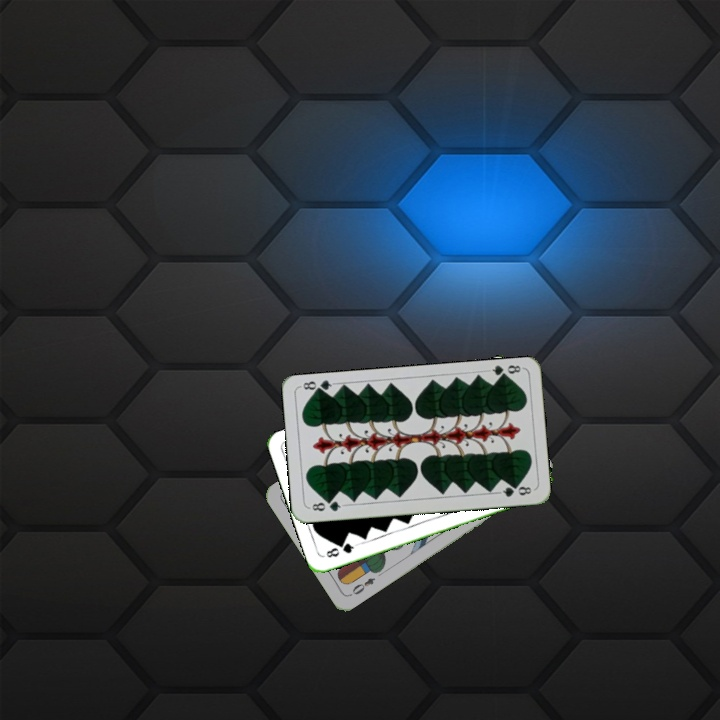EO: (346, 573, 378, 599)
G8: (484, 361, 525, 382), (322, 539, 360, 560), (306, 496, 346, 514)
